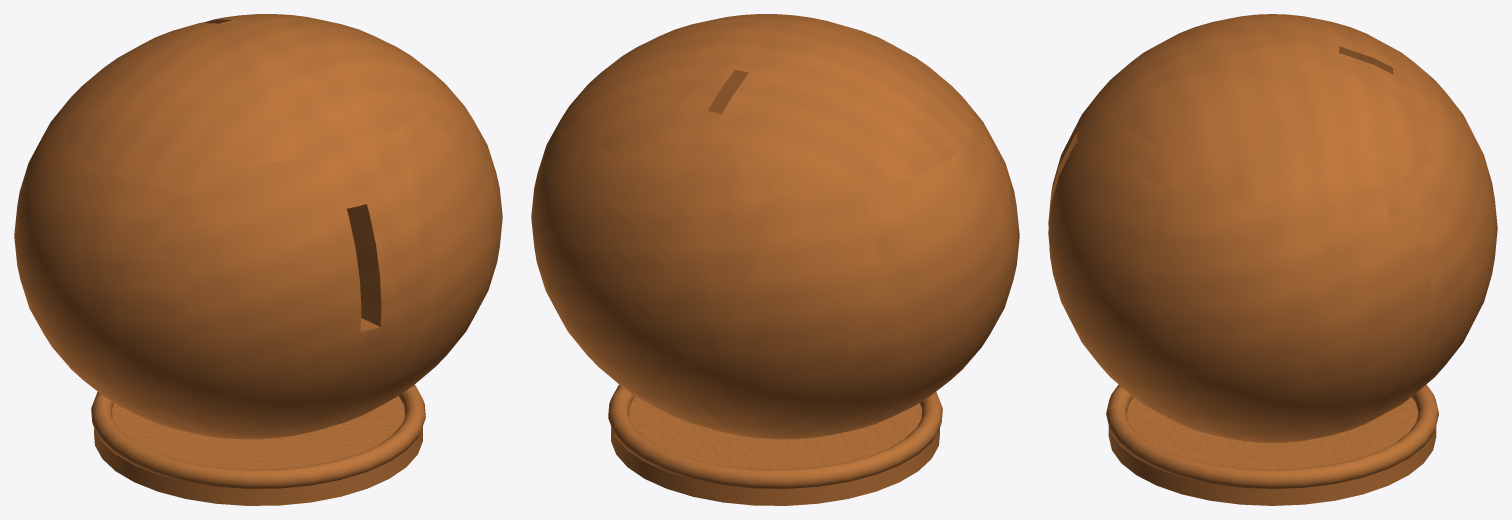
File: muyu.glb
3 renders of one model, left to right at view 1: azimuth 30°, elevation 25°; view 2: azimuth 150°, elevation 25°; view 3: azimuth 270°, elevation 25°, orthographic.
Visible parts, largest first — view 1: MuyuBody, MuyuBase, MuyuRim; view 2: MuyuBody, MuyuBase, MuyuRim; view 3: MuyuBody, MuyuBase, MuyuRim.
Boxes of the visible parts, x1,y1,x2,y2 form: MuyuBody: [14, 14, 502, 439]; MuyuBase: [94, 396, 422, 505]; MuyuRim: [91, 384, 425, 488]; MuyuBody: [531, 14, 1019, 439]; MuyuBase: [611, 396, 939, 505]; MuyuRim: [608, 384, 942, 488]; MuyuBody: [1048, 14, 1497, 442]; MuyuBase: [1108, 397, 1436, 505]; MuyuRim: [1106, 384, 1438, 488].
Size of the model in its own units: 2.16 by 1.9 by 1.96.
3 materials, 2 textured.
